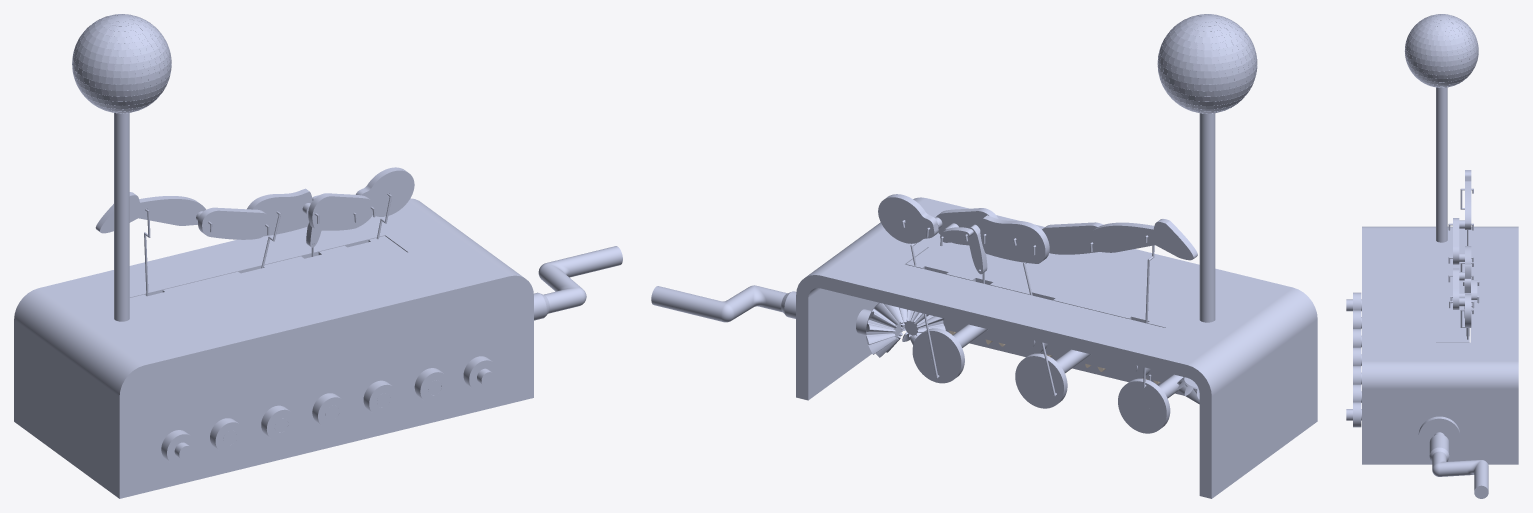
File: gizmo.glb
3 views of the same model, side by side, from view 1: azimuth 30°, elevation 25°; view 2: azimuth 150°, elevation 25°; view 3: azimuth 270°, elevation 25° (orthographic). The views are drawn at different scales.
Visible parts, largest first — view 1: Box-1, discoball-1, Retainer-1, DiscoballShaft-1, Crank-1, ManLeg-1, ManChest-1, ManThigh-1, ManHead-2, ManBooty-1, Collar-4, Collar-3 (+5 smaller); view 2: Box-1, discoball-1, Retainer-1, DiscoballShaft-1, Crank-1, ManLeg-1, ManBooty-1, ManHead-2, RearLegsCircleCam-1, CircleCam-1, CircleCam-4, Bevel-Base-Revolve-4 (+4 smaller); view 3: Box-1, discoball-1, Retainer-1, DiscoballShaft-1, Crank-1, CircleCam-2, ManLeg-1, ManThigh-1, ManChest-1, ManHead-2, Collar-10, ManBooty-1.
Boxes of the visible parts, <box> form: Box-1: <box>14,198,533,498</box>; discoball-1: <box>72,14,171,113</box>; Retainer-1: <box>129,236,406,307</box>; DiscoballShaft-1: <box>114,113,129,321</box>; Crank-1: <box>534,246,622,320</box>; ManLeg-1: <box>95,192,206,233</box>; ManChest-1: <box>308,193,374,230</box>; ManThigh-1: <box>198,207,271,239</box>; ManHead-2: <box>356,167,414,216</box>; ManBooty-1: <box>247,188,312,236</box>; Collar-4: <box>363,380,398,416</box>; Collar-3: <box>414,368,449,403</box>; Box-1: <box>796,197,1317,498</box>; discoball-1: <box>1157,14,1257,113</box>; Retainer-1: <box>906,247,1177,327</box>; DiscoballShaft-1: <box>1199,113,1215,322</box>; Crank-1: <box>651,285,796,322</box>; ManLeg-1: <box>1086,219,1197,260</box>; ManBooty-1: <box>980,215,1049,263</box>; ManHead-2: <box>878,194,938,243</box>; RearLegsCircleCam-1: <box>1118,378,1170,433</box>; CircleCam-1: <box>912,328,964,383</box>; CircleCam-4: <box>1015,353,1067,408</box>; Bevel-Base-Revolve-4: <box>856,303,904,357</box>; Box-1: <box>1362,226,1518,464</box>; discoball-1: <box>1404,14,1478,87</box>; Retainer-1: <box>1436,248,1469,342</box>; DiscoballShaft-1: <box>1436,87,1447,242</box>; Crank-1: <box>1429,434,1488,498</box>; CircleCam-2: <box>1418,416,1460,453</box>; ManLeg-1: <box>1465,170,1471,229</box>; ManThigh-1: <box>1453,218,1459,264</box>; ManChest-1: <box>1453,268,1459,309</box>; ManHead-2: <box>1465,293,1471,327</box>; Collar-10: <box>1353,402,1361,427</box>; ManBooty-1: <box>1465,246,1471,279</box>.
Size of the model in its own units: 0.3016 by 0.2127 by 0.1047.
